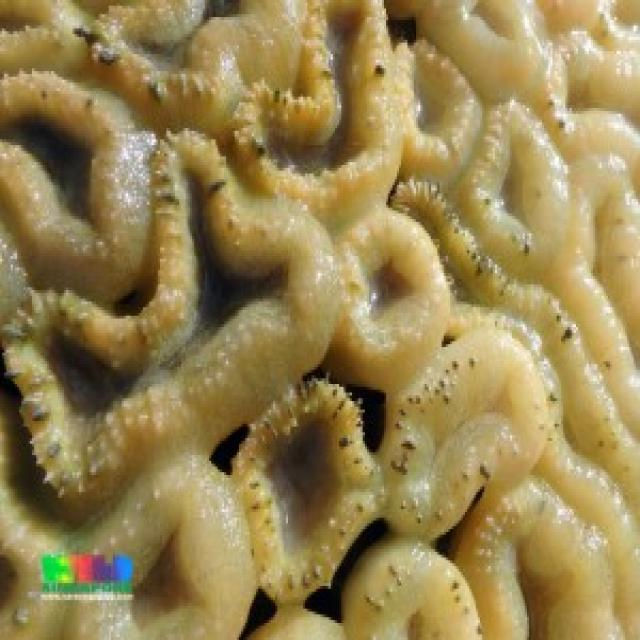Bleached: (1, 1, 406, 638), (236, 214, 624, 638), (387, 1, 639, 519)
